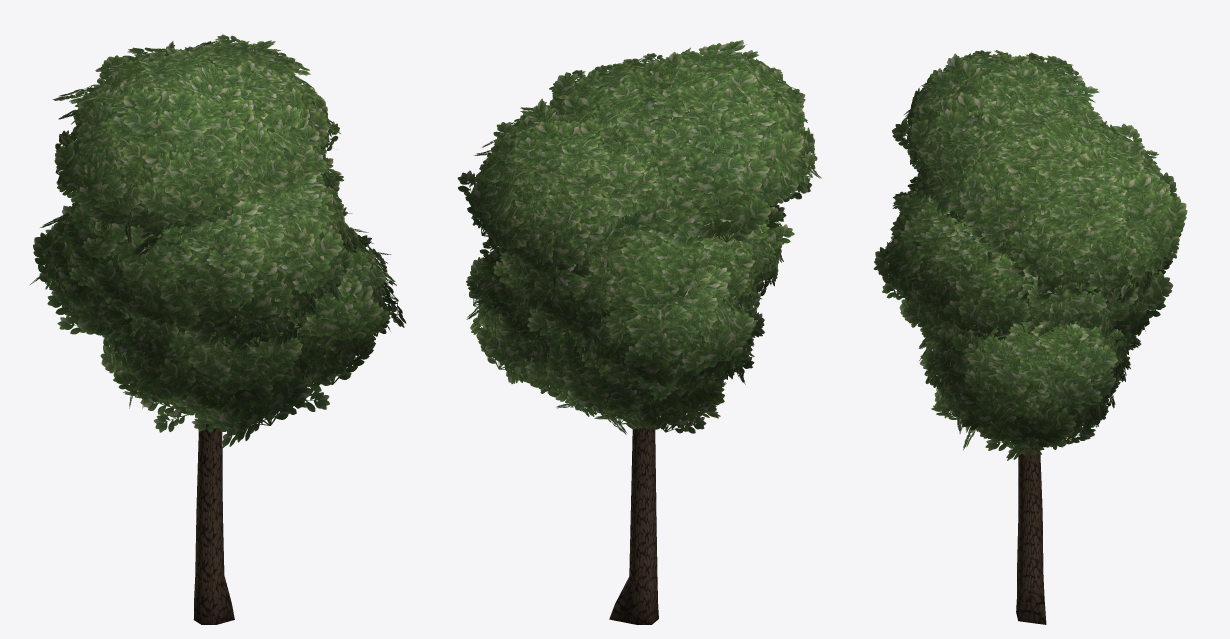
The model's file is sundari_c_lod1.glb.
The picture shows the model from 3 angles, left to right: view 1: azimuth 30°, elevation 25°; view 2: azimuth 150°, elevation 25°; view 3: azimuth 270°, elevation 25°; orthographic projection. The views are drawn at different scales.
Parts seen in each view (by area): view 1: leaves, wood; view 2: leaves, wood; view 3: leaves, wood.
Boxes of the visible parts, bbox=[...] form: leaves: bbox=[29, 34, 406, 448]; wood: bbox=[193, 422, 234, 624]; leaves: bbox=[457, 40, 821, 434]; wood: bbox=[609, 420, 658, 624]; leaves: bbox=[873, 50, 1187, 460]; wood: bbox=[1016, 445, 1046, 624].
Bounding box in the file's own units: 10.54 × 17.81 × 10.08.
2 materials, 2 textured.
